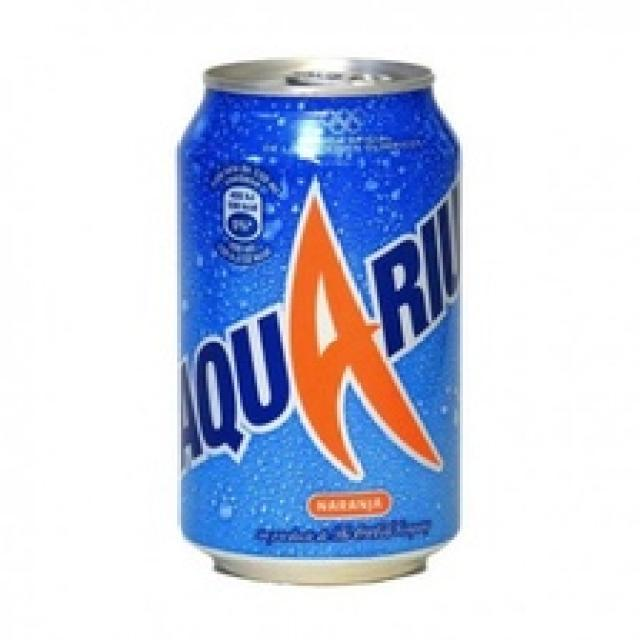recyclable: (177, 57, 466, 586)
